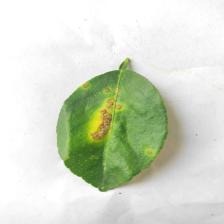canker: (69, 80, 128, 150)
